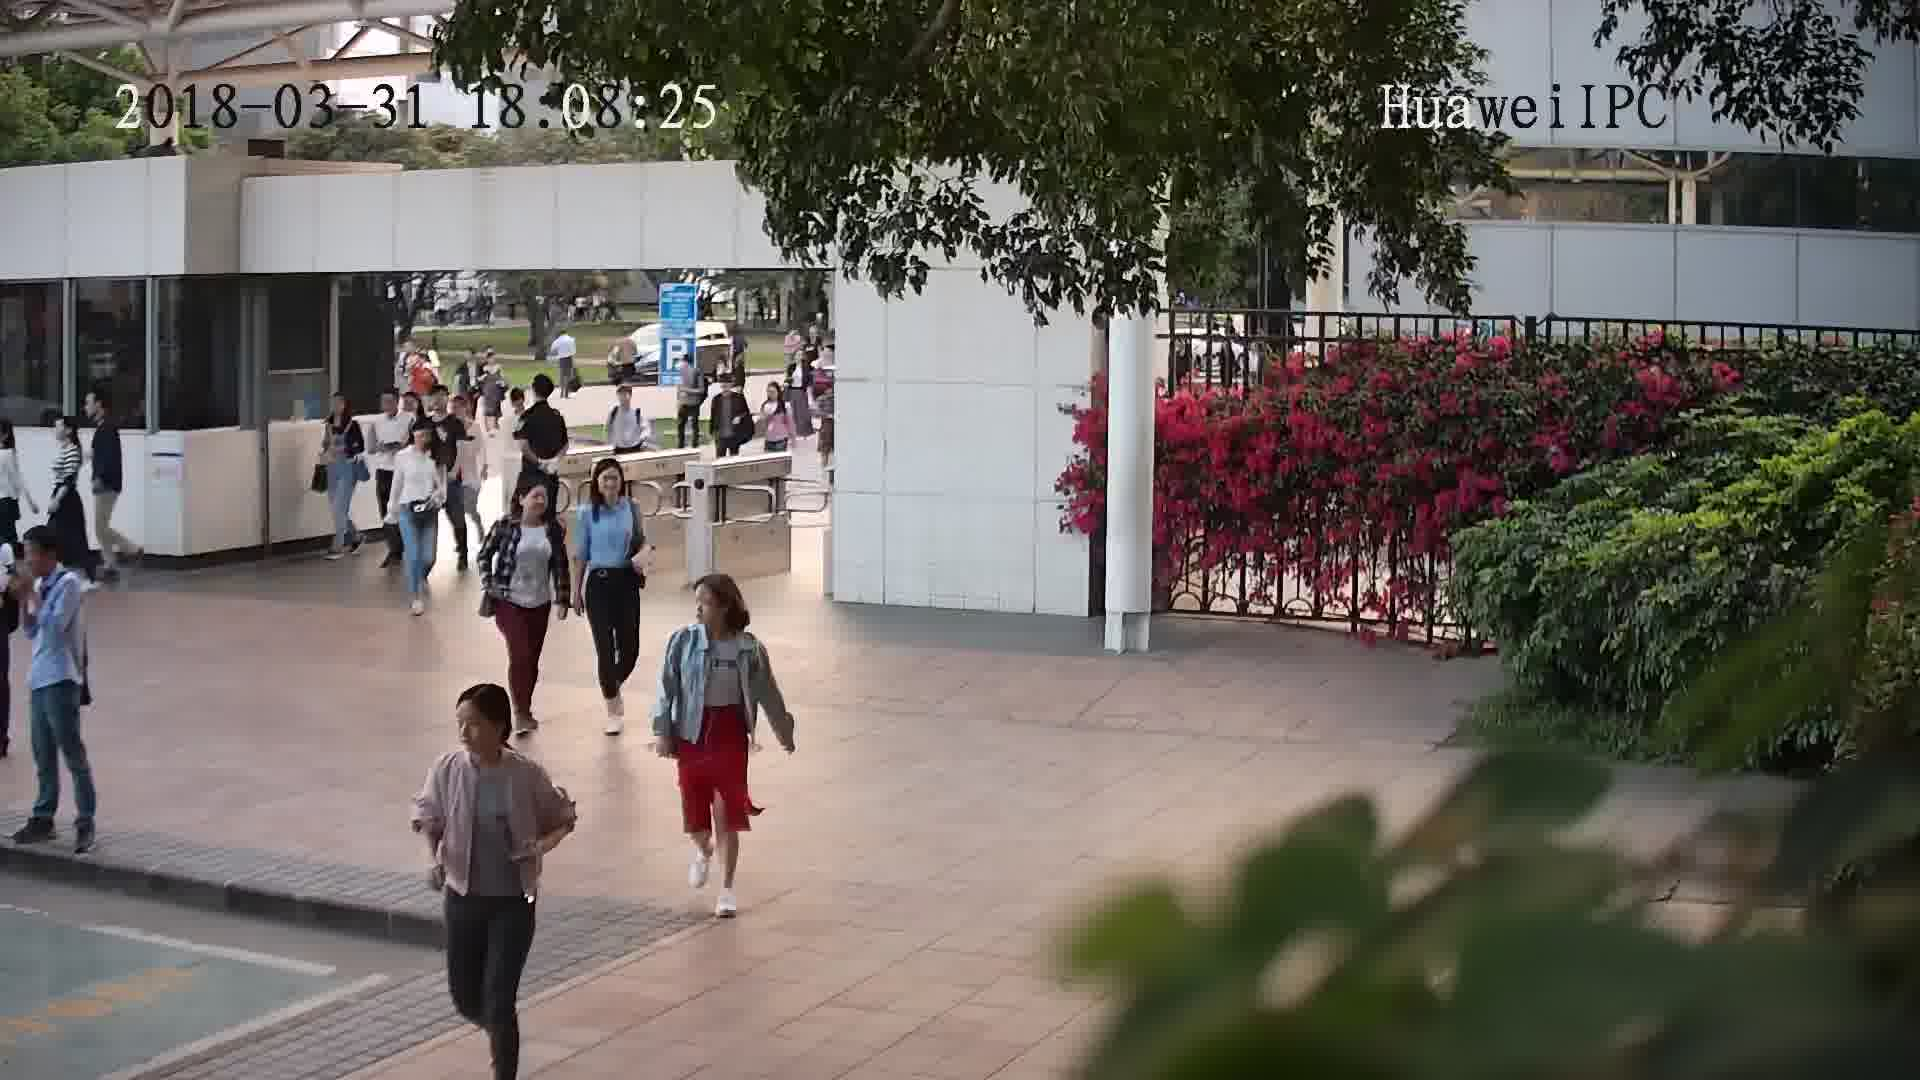face: (450, 701, 505, 756), (684, 581, 728, 625)
person: (423, 682, 552, 792), (667, 571, 762, 661), (20, 522, 92, 611), (487, 472, 565, 542), (578, 457, 640, 523), (421, 384, 468, 436), (391, 417, 438, 470), (521, 372, 567, 424), (88, 381, 127, 443), (317, 388, 363, 436), (364, 384, 410, 431), (47, 404, 86, 458), (445, 393, 488, 441), (608, 376, 651, 421), (709, 369, 749, 406), (758, 375, 793, 415), (1, 414, 29, 461), (479, 347, 506, 381), (785, 346, 812, 375), (457, 345, 485, 371)
